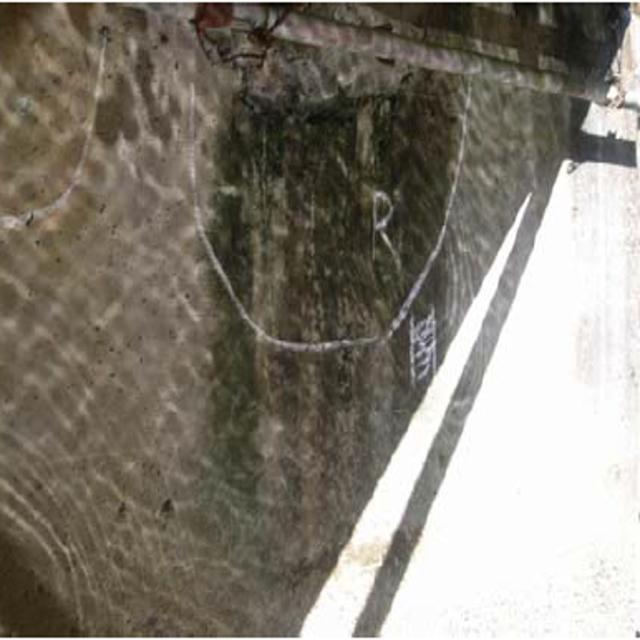leakage: (217, 64, 466, 534)
